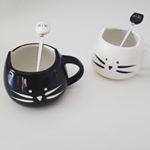cups: (1, 41, 86, 110), (89, 24, 150, 81)
